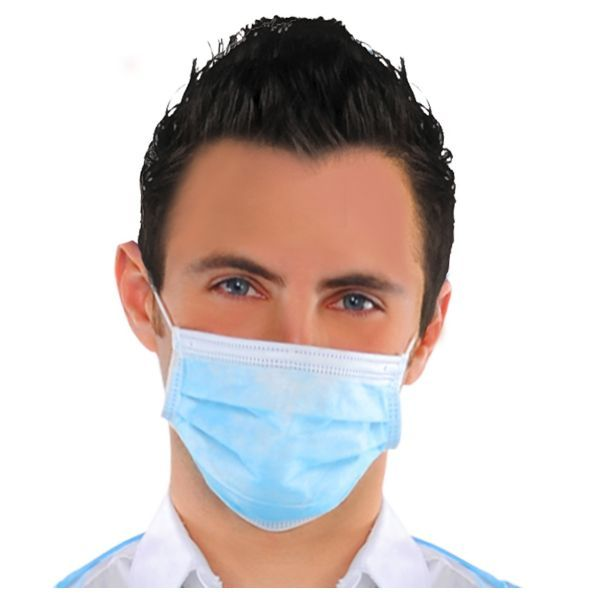surgical: (156, 316, 416, 537)
